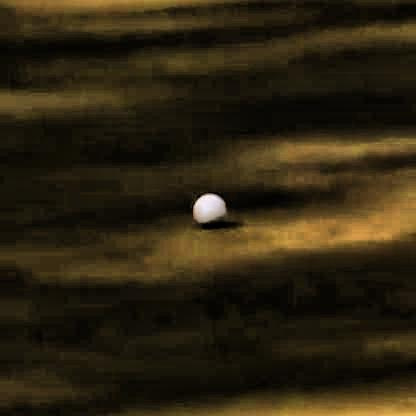golfball: (189, 189, 225, 225)
